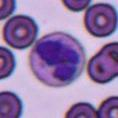N: (28, 32, 86, 86)
